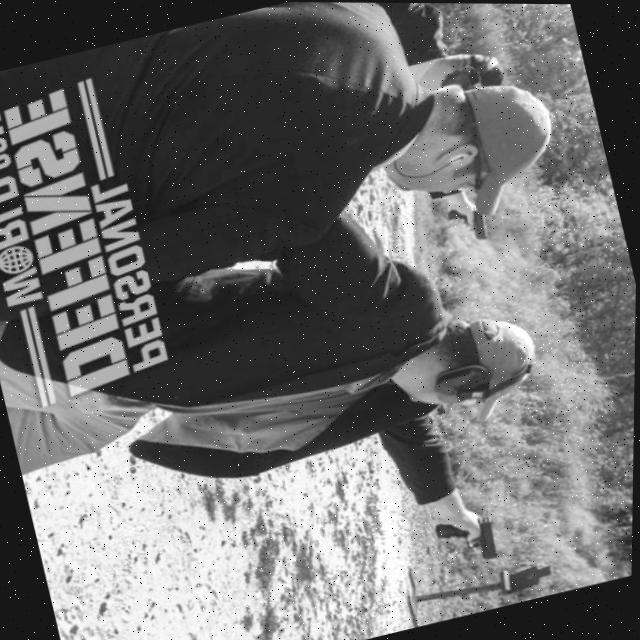pistol: (462, 512, 503, 562), (463, 207, 492, 241)
